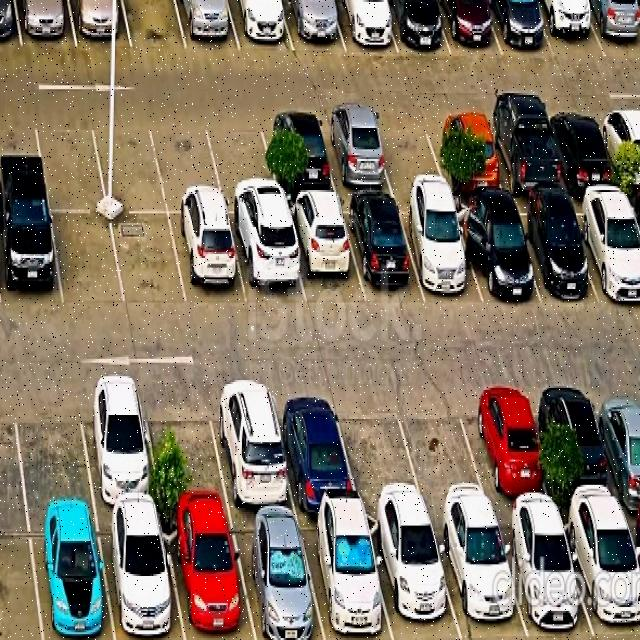empty: (394, 383, 493, 513), (333, 385, 427, 512), (141, 382, 230, 512), (11, 381, 94, 512), (204, 113, 282, 214), (90, 114, 168, 212), (151, 115, 225, 213), (111, 213, 187, 308), (33, 113, 107, 210), (51, 212, 125, 307), (370, 112, 447, 191), (123, 0, 187, 50)
occupied: (495, 513, 594, 639), (430, 513, 528, 640), (462, 382, 555, 512), (229, 515, 325, 640), (366, 514, 461, 640), (298, 514, 393, 640), (161, 514, 255, 640), (207, 379, 296, 512), (270, 383, 359, 510), (537, 380, 623, 511), (76, 380, 161, 511), (97, 513, 184, 640), (28, 513, 113, 640), (560, 509, 640, 640), (453, 201, 541, 304), (508, 201, 597, 302), (397, 200, 483, 303), (284, 199, 365, 306), (341, 199, 425, 302), (568, 194, 640, 300), (169, 214, 248, 306), (228, 216, 306, 306), (483, 112, 564, 194), (260, 113, 337, 196), (0, 206, 62, 307), (591, 381, 640, 508), (427, 113, 505, 192), (318, 113, 394, 193), (544, 109, 618, 188), (534, 0, 605, 60), (487, 0, 554, 57), (437, 0, 502, 56), (383, 0, 450, 54), (596, 108, 640, 186), (331, 0, 397, 52), (227, 0, 294, 51), (583, 0, 640, 58), (176, 0, 240, 51), (282, 0, 345, 50), (68, 0, 132, 48), (15, 0, 77, 47)
